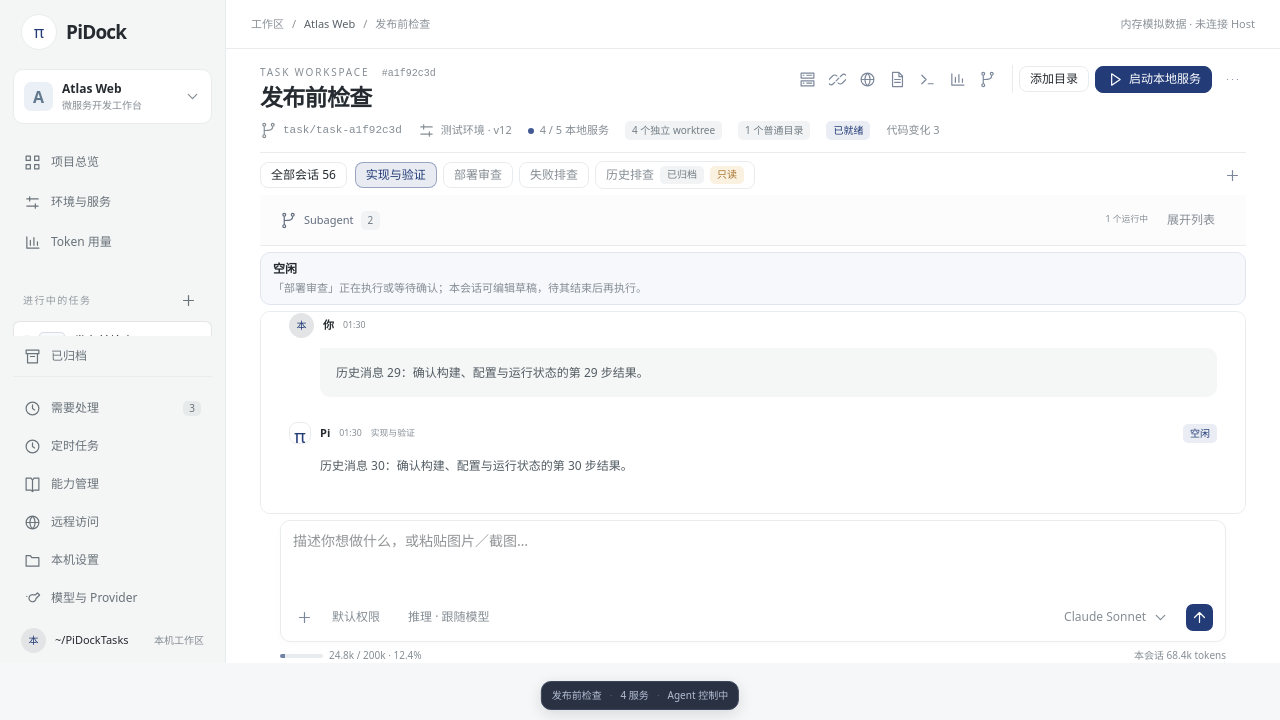
Test: composer alignment › disables the input and the attachment entry in a read-only session with a visible reason
The image size is (1280, 720).
(page scrolled)
Expected: the heading "发布前检查" is shown, [260,81,372,113]
Click the button with aria-label "选择权限：": (356, 617) [321,604,391,630]
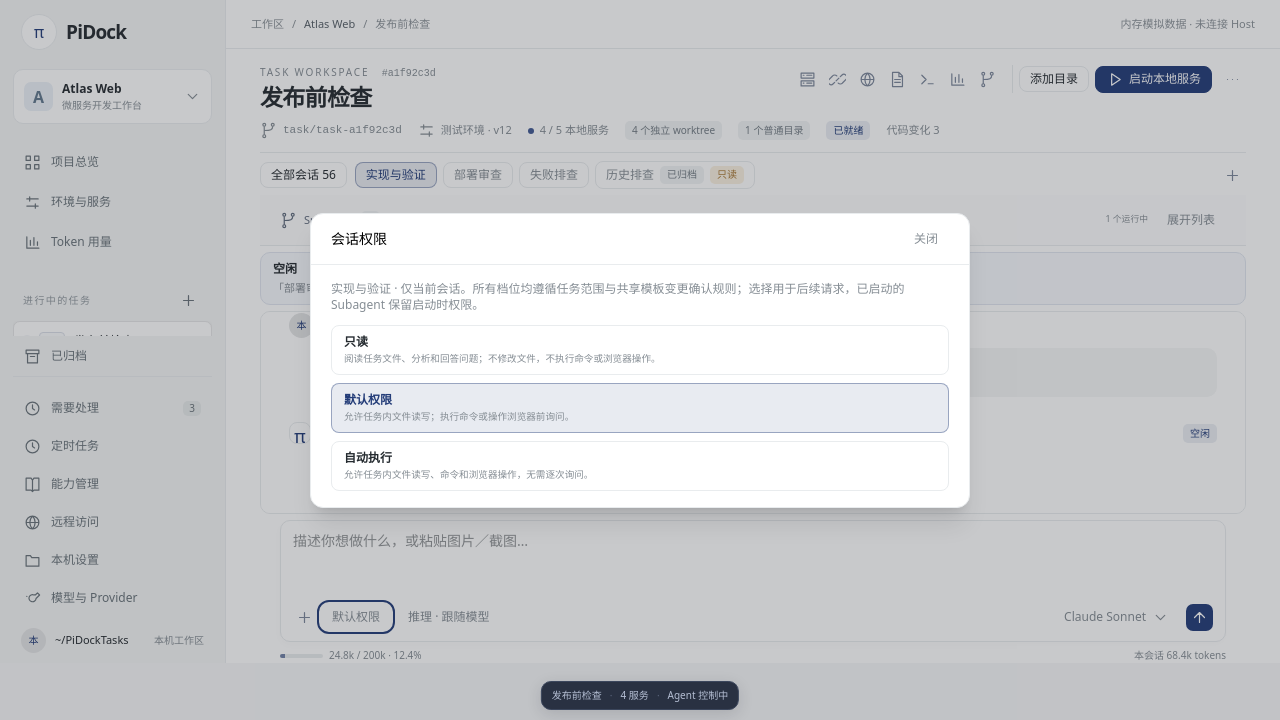
Click the button with test id "permission-read": (640, 350) [331,324,949,374]
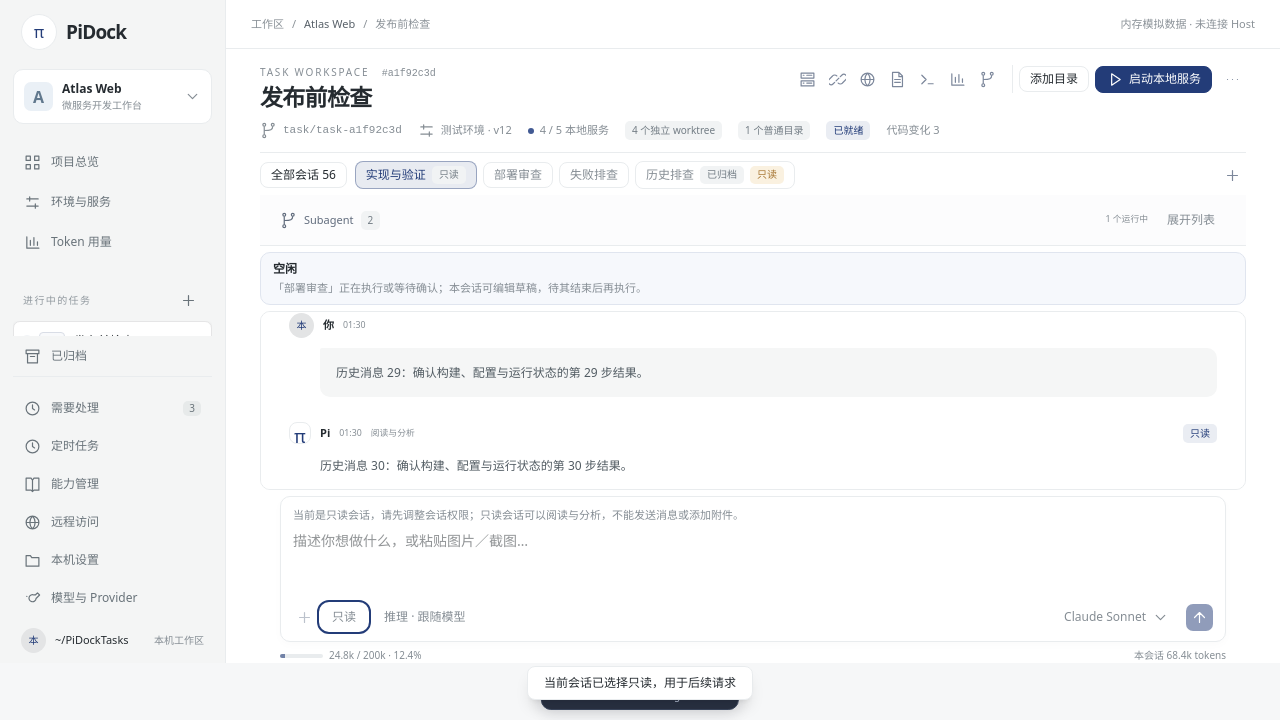
Expected: the message with test id "composer-readonly-hint" shows "当前是只读会话，请先调整会话权限", [293,506,469,522]
Expected: the message with test id "composer-readonly-hint" shows "不能发送消息或添加附件", [469,506,744,522]
Expected: the text box named "给 Agent 的消息" is disabled, [293,531,1213,597]
